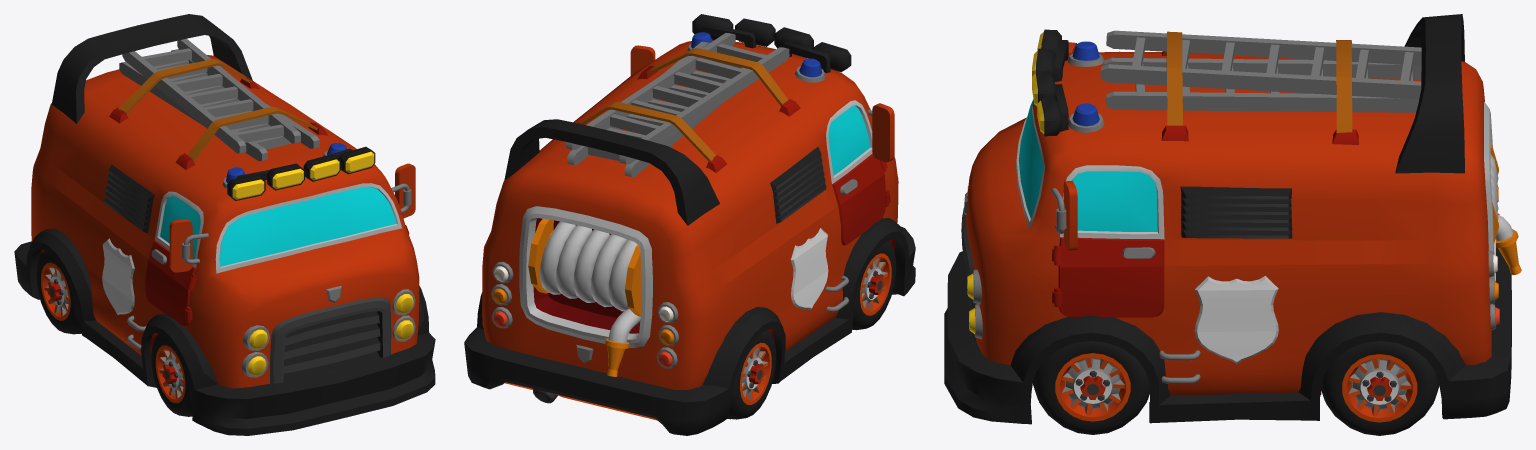
Rendered from VEH24-B.fbx.
3 views of the same model, side by side, from view 1: azimuth 30°, elevation 25°; view 2: azimuth 150°, elevation 25°; view 3: azimuth 270°, elevation 25° (orthographic). The views are drawn at different scales.
Parts seen in each view (by area): view 1: VEH24_B, VEH24B_BodyParts, VEH24B_Wheel_BR, VEH24B_Wheel_FR; view 2: VEH24_B, VEH24B_BodyParts, VEH24B_Wheel_BR, VEH24B_Wheel_FR; view 3: VEH24_B, VEH24B_BodyParts, VEH24B_Wheel_BL, VEH24B_Wheel_FL.
Part boxes in pixels (x1,y1,x2,y2): VEH24_B: [14, 14, 435, 435]; VEH24B_BodyParts: [118, 38, 319, 162]; VEH24B_Wheel_BR: [36, 251, 81, 334]; VEH24B_Wheel_FR: [151, 334, 192, 416]; VEH24_B: [464, 14, 915, 435]; VEH24B_BodyParts: [504, 33, 789, 420]; VEH24B_Wheel_BR: [727, 330, 776, 419]; VEH24B_Wheel_FR: [852, 241, 896, 330]; VEH24_B: [944, 14, 1511, 424]; VEH24B_BodyParts: [1100, 30, 1521, 274]; VEH24B_Wheel_BL: [1321, 341, 1439, 435]; VEH24B_Wheel_FL: [1033, 341, 1150, 434].
Bounding box in the file's own units: 266 × 268 × 430.
Materials: 1 (1 with a texture image).
